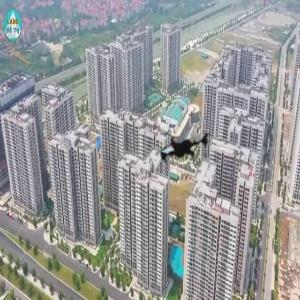drone: (142, 101, 227, 186)
